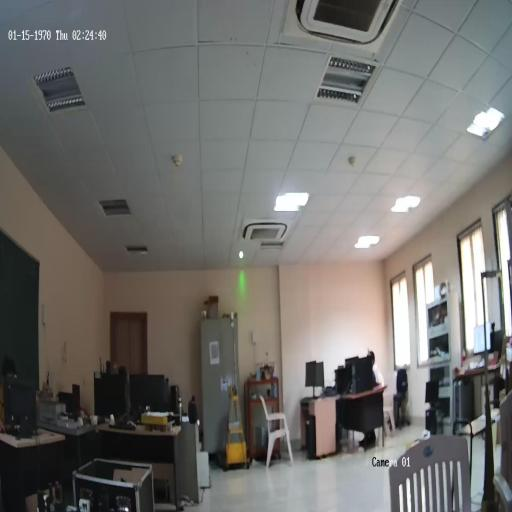laser: (238, 249, 244, 259)
